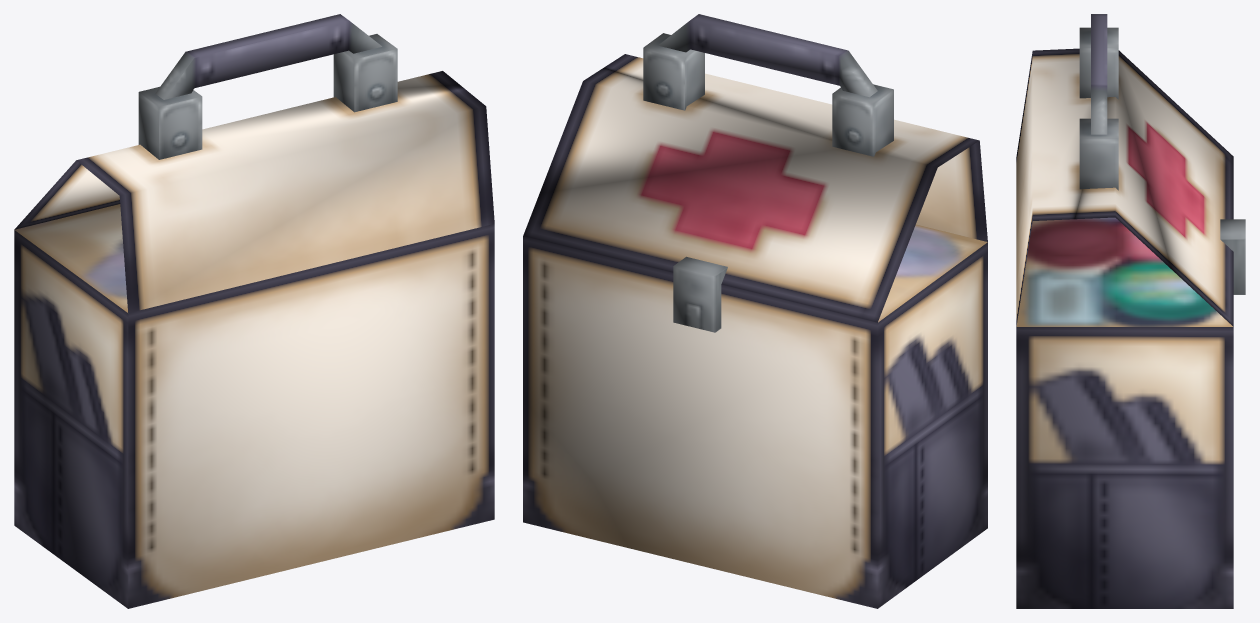
Rendered from a_SWIdrug02.glb.
3 renders of one model, left to right at view 1: azimuth 30°, elevation 25°; view 2: azimuth 150°, elevation 25°; view 3: azimuth 270°, elevation 25°, orthographic. The views are drawn at different scales.
Visible parts, largest first — view 1: a_SWIdrug02; view 2: a_SWIdrug02; view 3: a_SWIdrug02.
Boxes of the visible parts, x1,y1,x2,y2 form: a_SWIdrug02: (14,14,494,608); a_SWIdrug02: (523,14,987,608); a_SWIdrug02: (1016,14,1245,608).
Bounding box in the file's own units: 0.314 × 0.4065 × 0.1783.
1 material, 1 textured.
